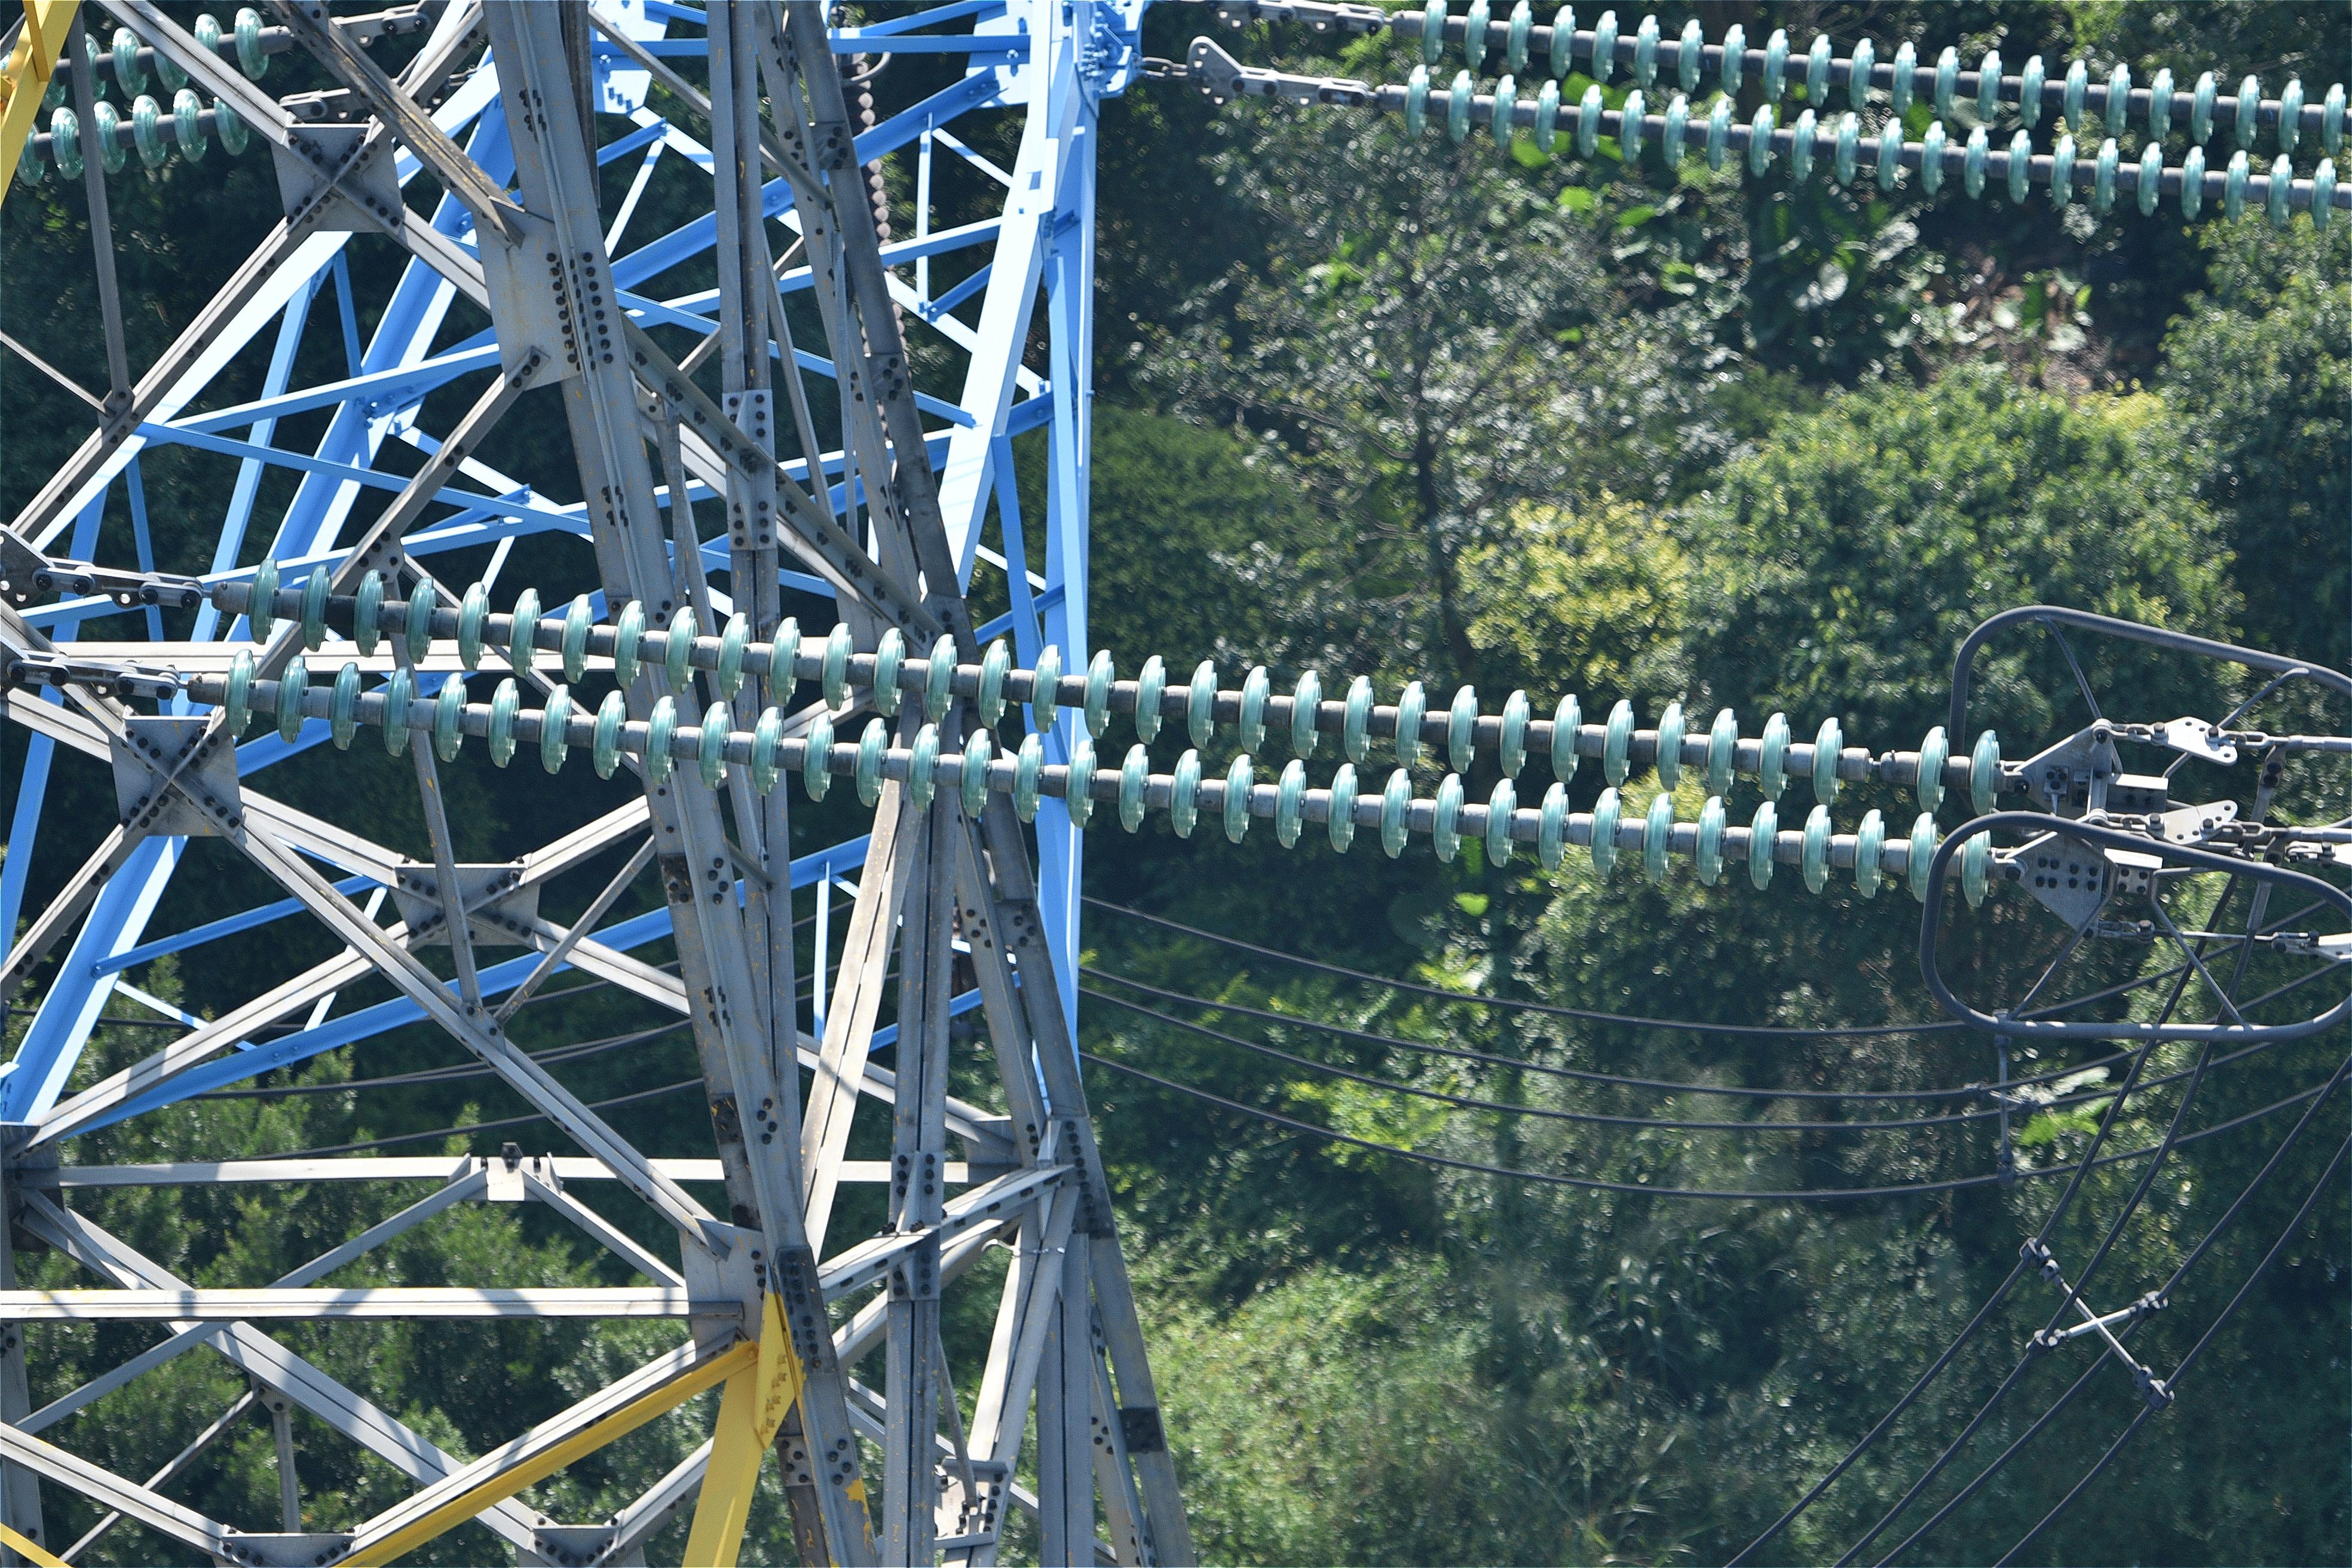insultor3: (171, 527, 2044, 913), (1337, 0, 2352, 238)
